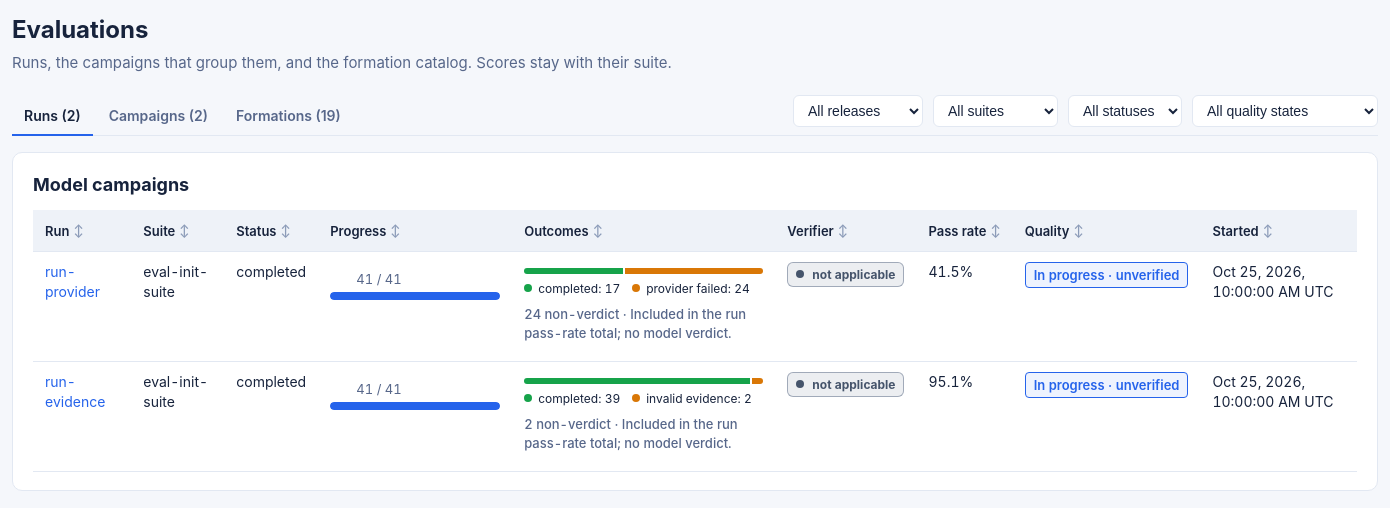
Test case: EvaluationsView › includes provider and other non-verdict outcomes in run pass rates and sorting
The width and height of the screenshot is (1390, 508).
Expected: the row "run-provider" shows "41.5%", [928,262,973,280]
Expected: the text "Included in the run pass-rate total" is shown 2 times, [524,305,763,343]; [524,415,763,453]
Step 1. Click the button with aria-label "Sort by Pass rate" → (965, 230), box [928,222,1001,238]
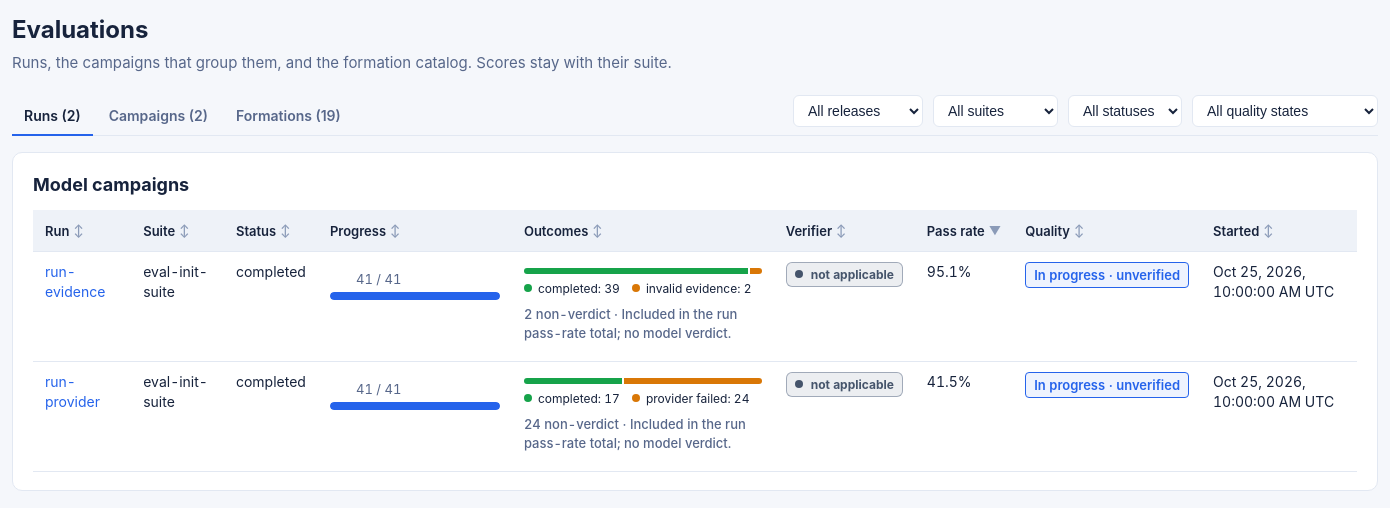
Step 2. Click the tab "Campaigns (2)" → (158, 116), box [97,96,220,136]
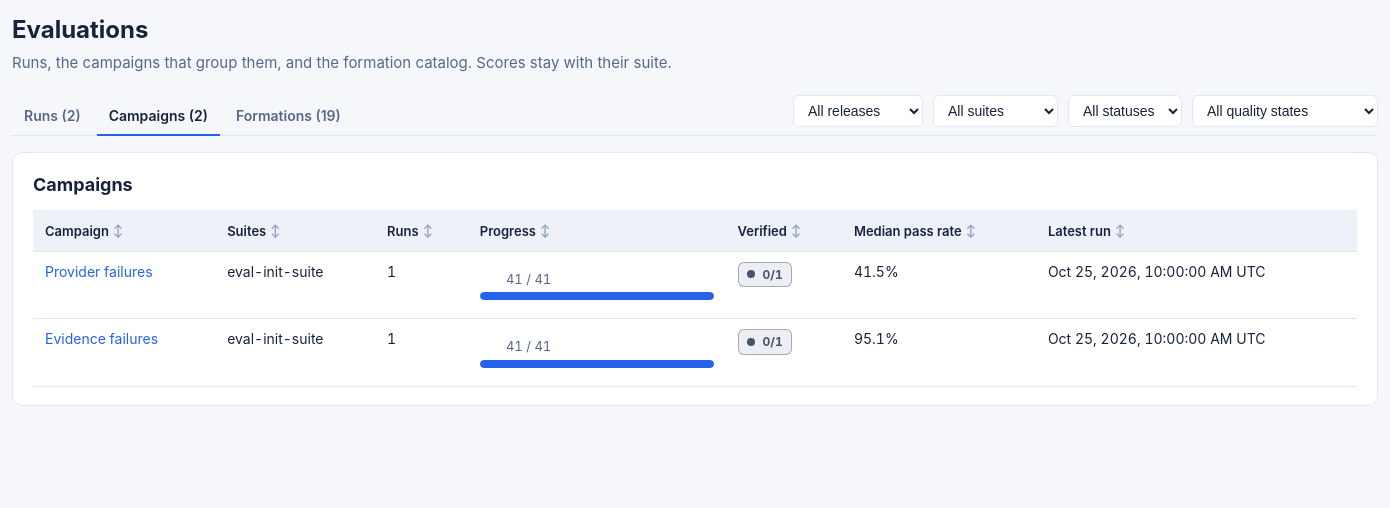
Now the row "Provider failures" shows "41.5%", box [854,262,899,280]
Now the row "Evidence failures" shows "95.1%", box [854,330,899,347]
